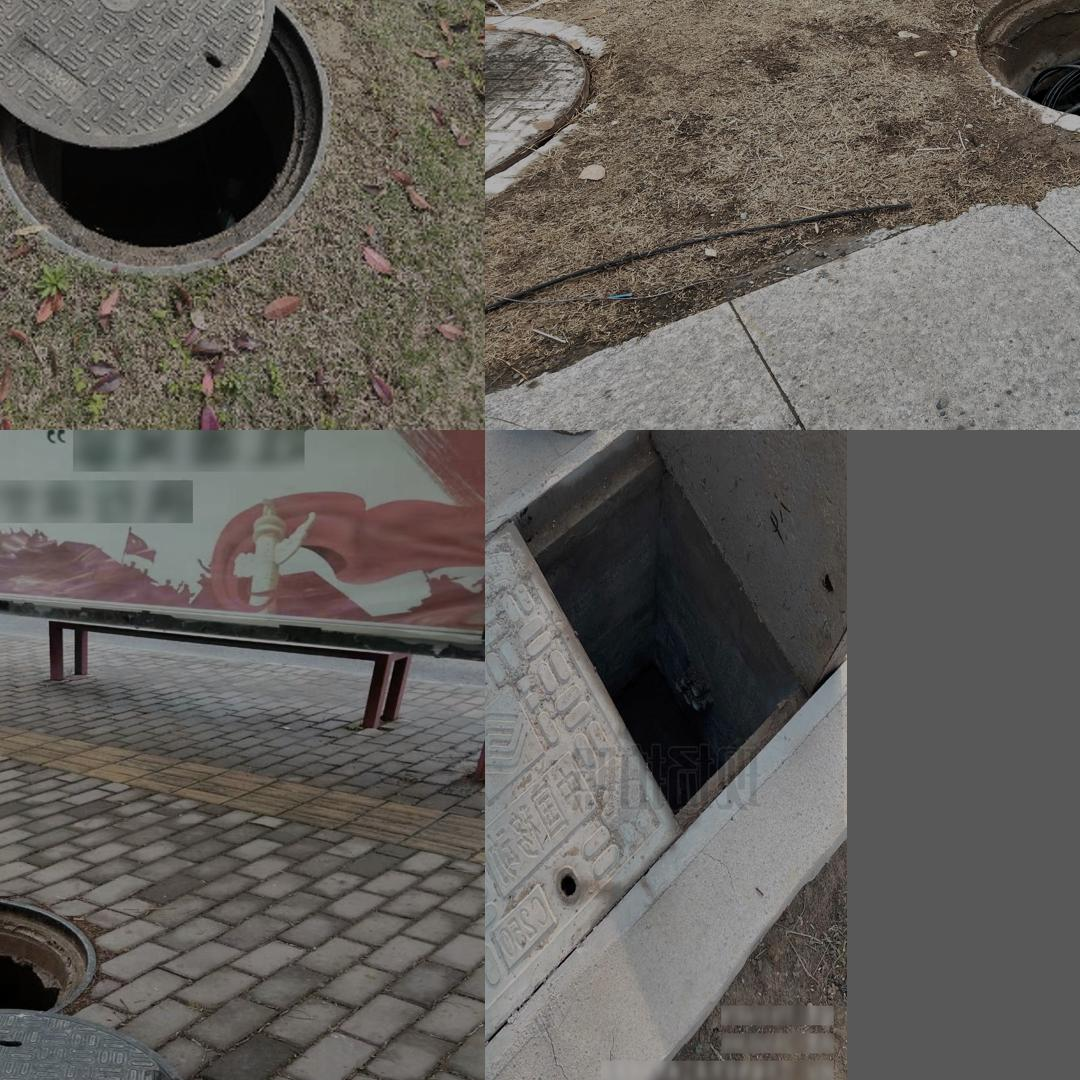uncovered: (485, 430, 845, 1080), (0, 0, 331, 273), (0, 893, 202, 1080), (977, 0, 1080, 303)
